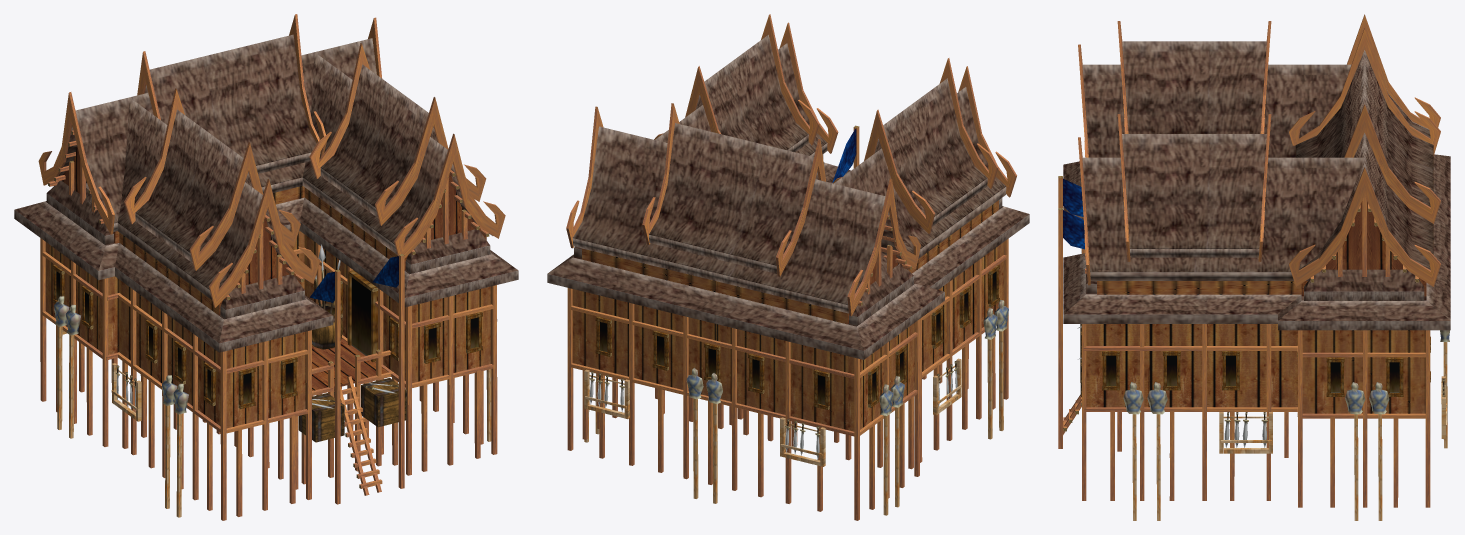
The model's file is barracks.dae.
The picture shows the model from 3 angles, left to right: view 1: azimuth 30°, elevation 25°; view 2: azimuth 150°, elevation 25°; view 3: azimuth 270°, elevation 25°; orthographic projection. The views are drawn at different scales.
Visible parts, largest first — view 1: barracks; view 2: barracks; view 3: barracks.
Part boxes in pixels (bbox=[...]): barracks: bbox=[14, 14, 518, 520]; barracks: bbox=[547, 14, 1029, 520]; barracks: bbox=[1058, 14, 1450, 520].
Bounding box in the file's own units: 19.59 × 19.75 × 20.82.
